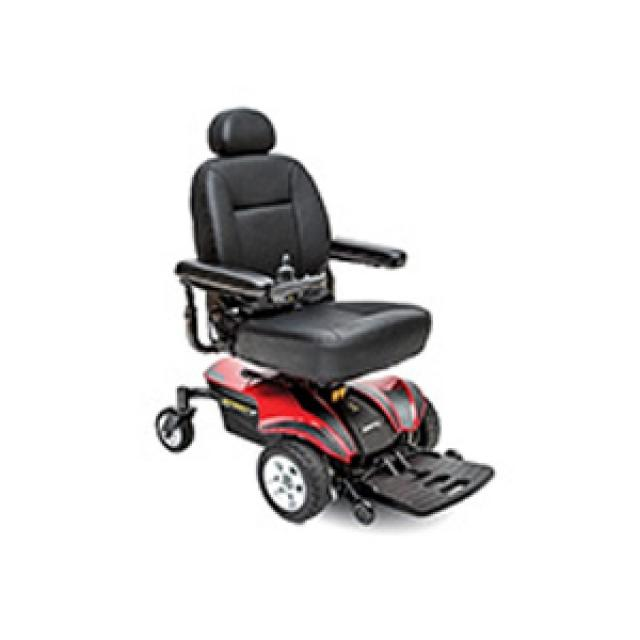wheelchair: (146, 92, 518, 556)
